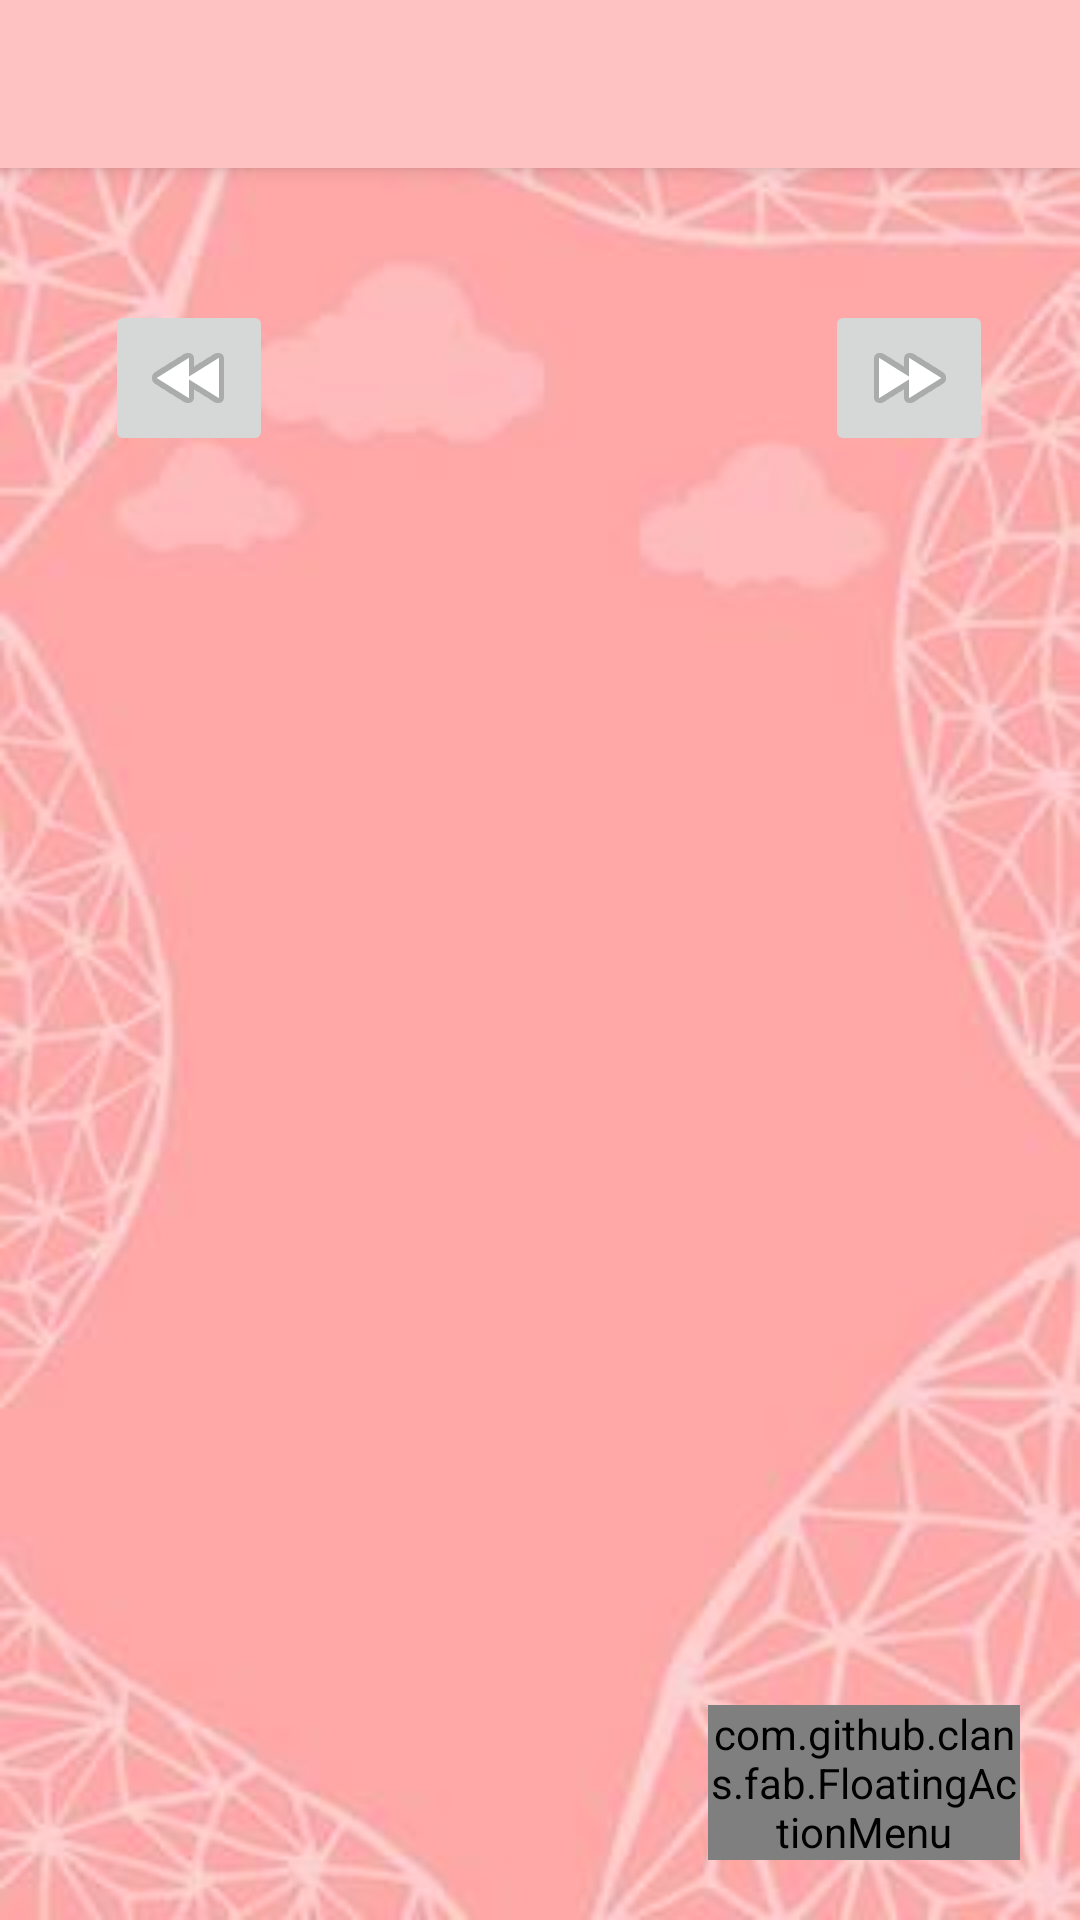

Named icons in this screenshot (1080px x 1920px) and their centers, (x,y):
rew: (183,376)
